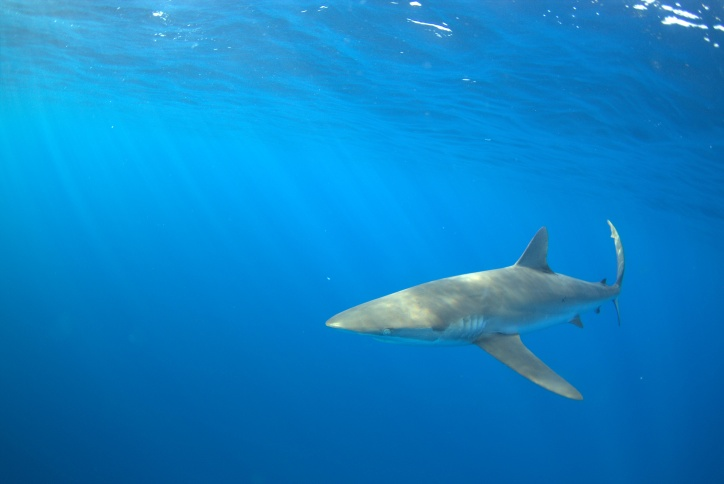Sedoso: (319, 207, 652, 406)
